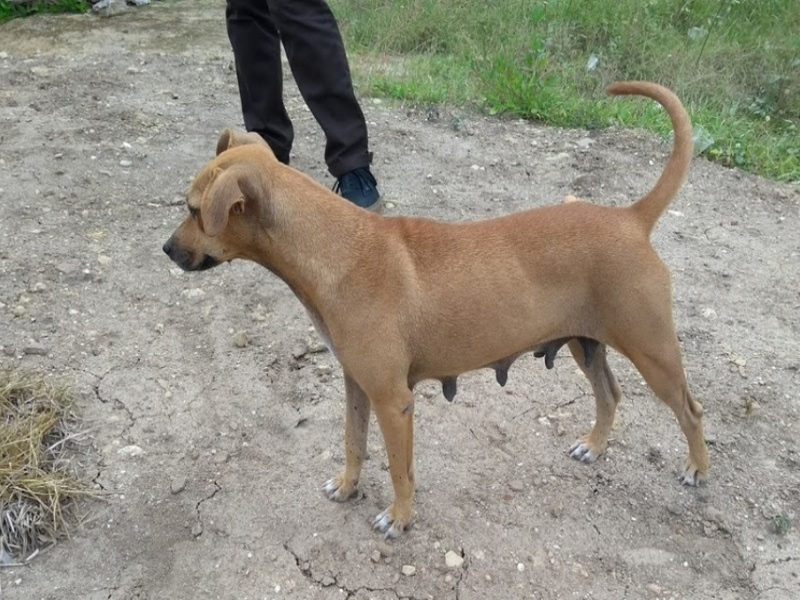dog: (162, 73, 707, 556)
human legs: (219, 1, 390, 210)
